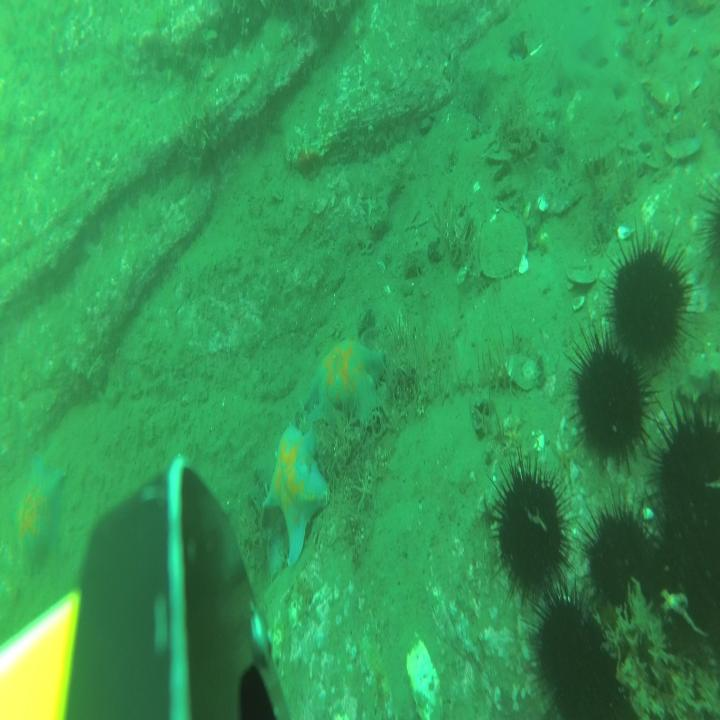echinus: (603, 220, 699, 371), (488, 452, 570, 605), (570, 322, 652, 474), (578, 488, 660, 623), (654, 396, 720, 543), (655, 509, 720, 654), (536, 587, 594, 698), (558, 653, 619, 720), (700, 170, 720, 294)
holothurian: (688, 323, 720, 395)
scallop: (478, 214, 528, 280), (505, 351, 539, 392), (567, 258, 597, 289)
starfish: (263, 419, 329, 566), (11, 448, 66, 583), (311, 339, 384, 424)
